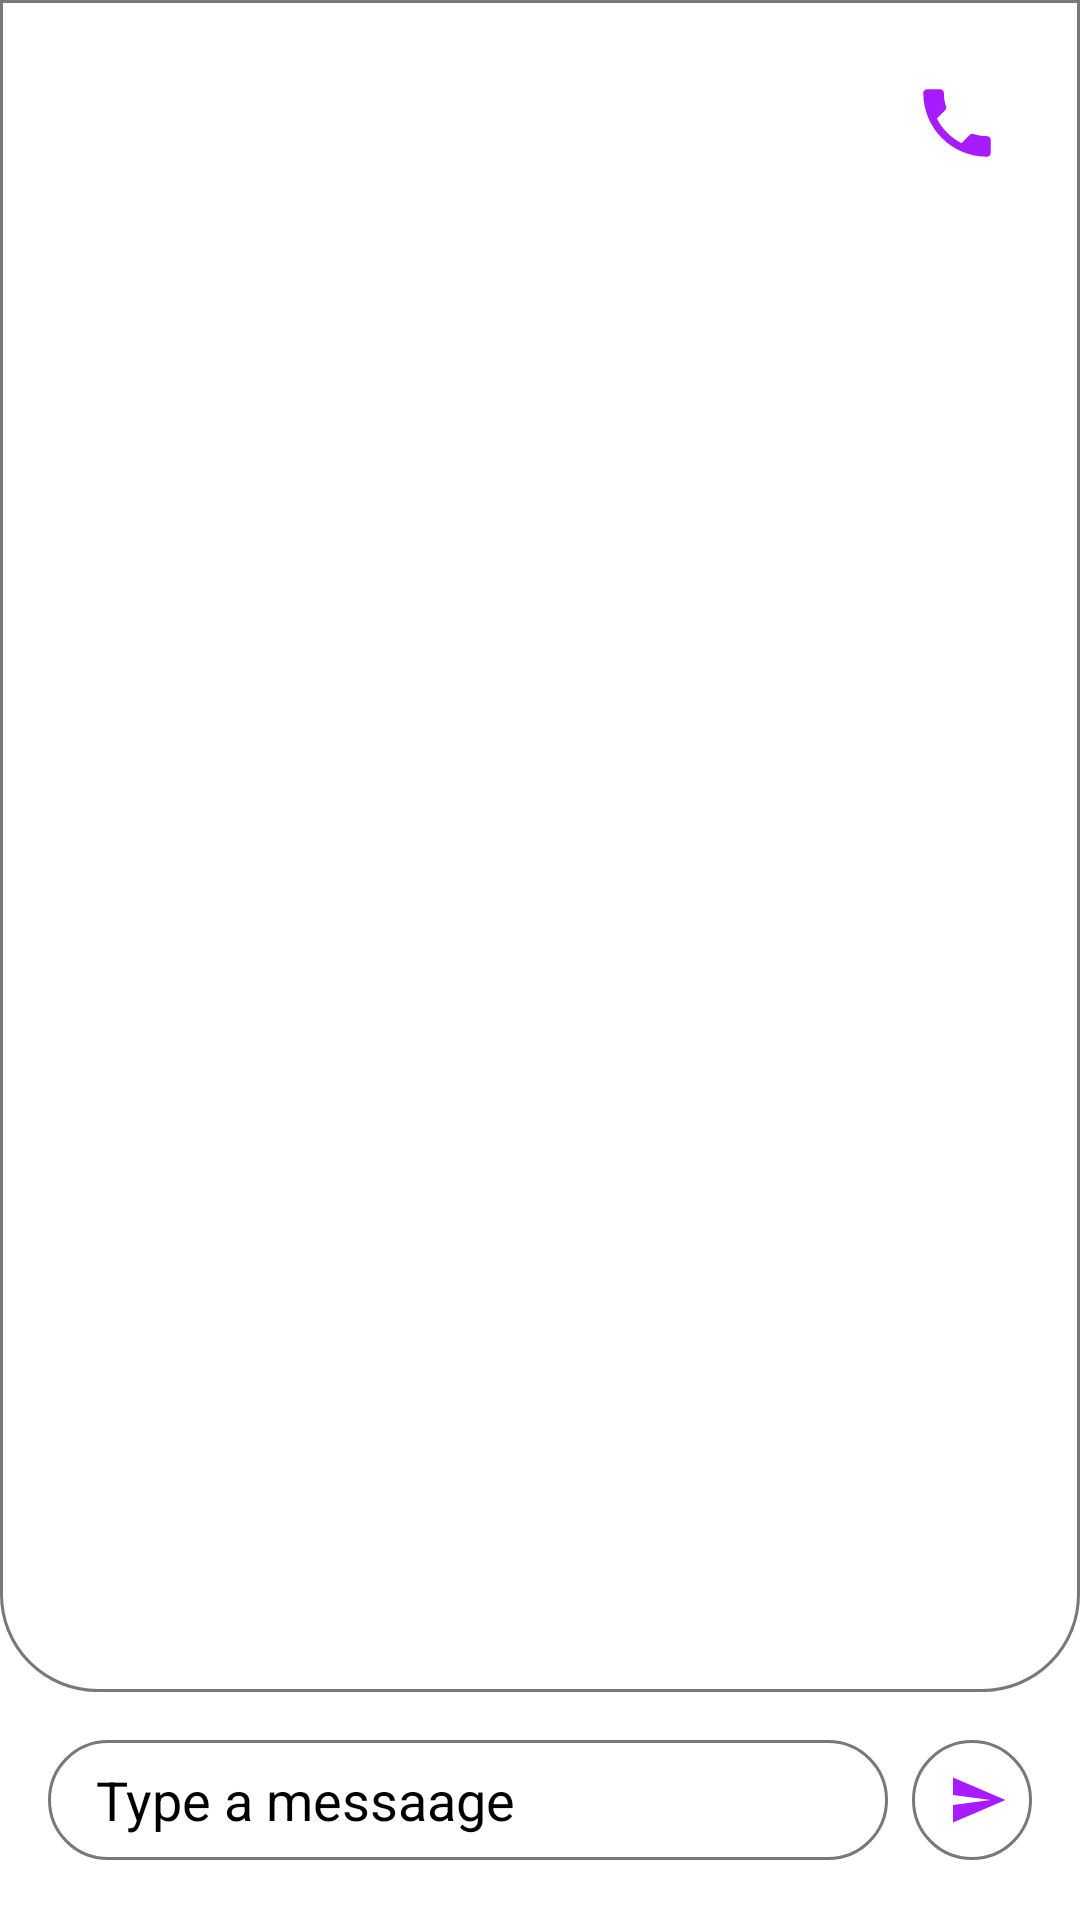

Icons on this 1080 × 1920 Android screen, each with its box as (x1, y1, x2, y2):
phone num: (923, 89, 991, 157)
send message: (953, 1777, 1005, 1823)
